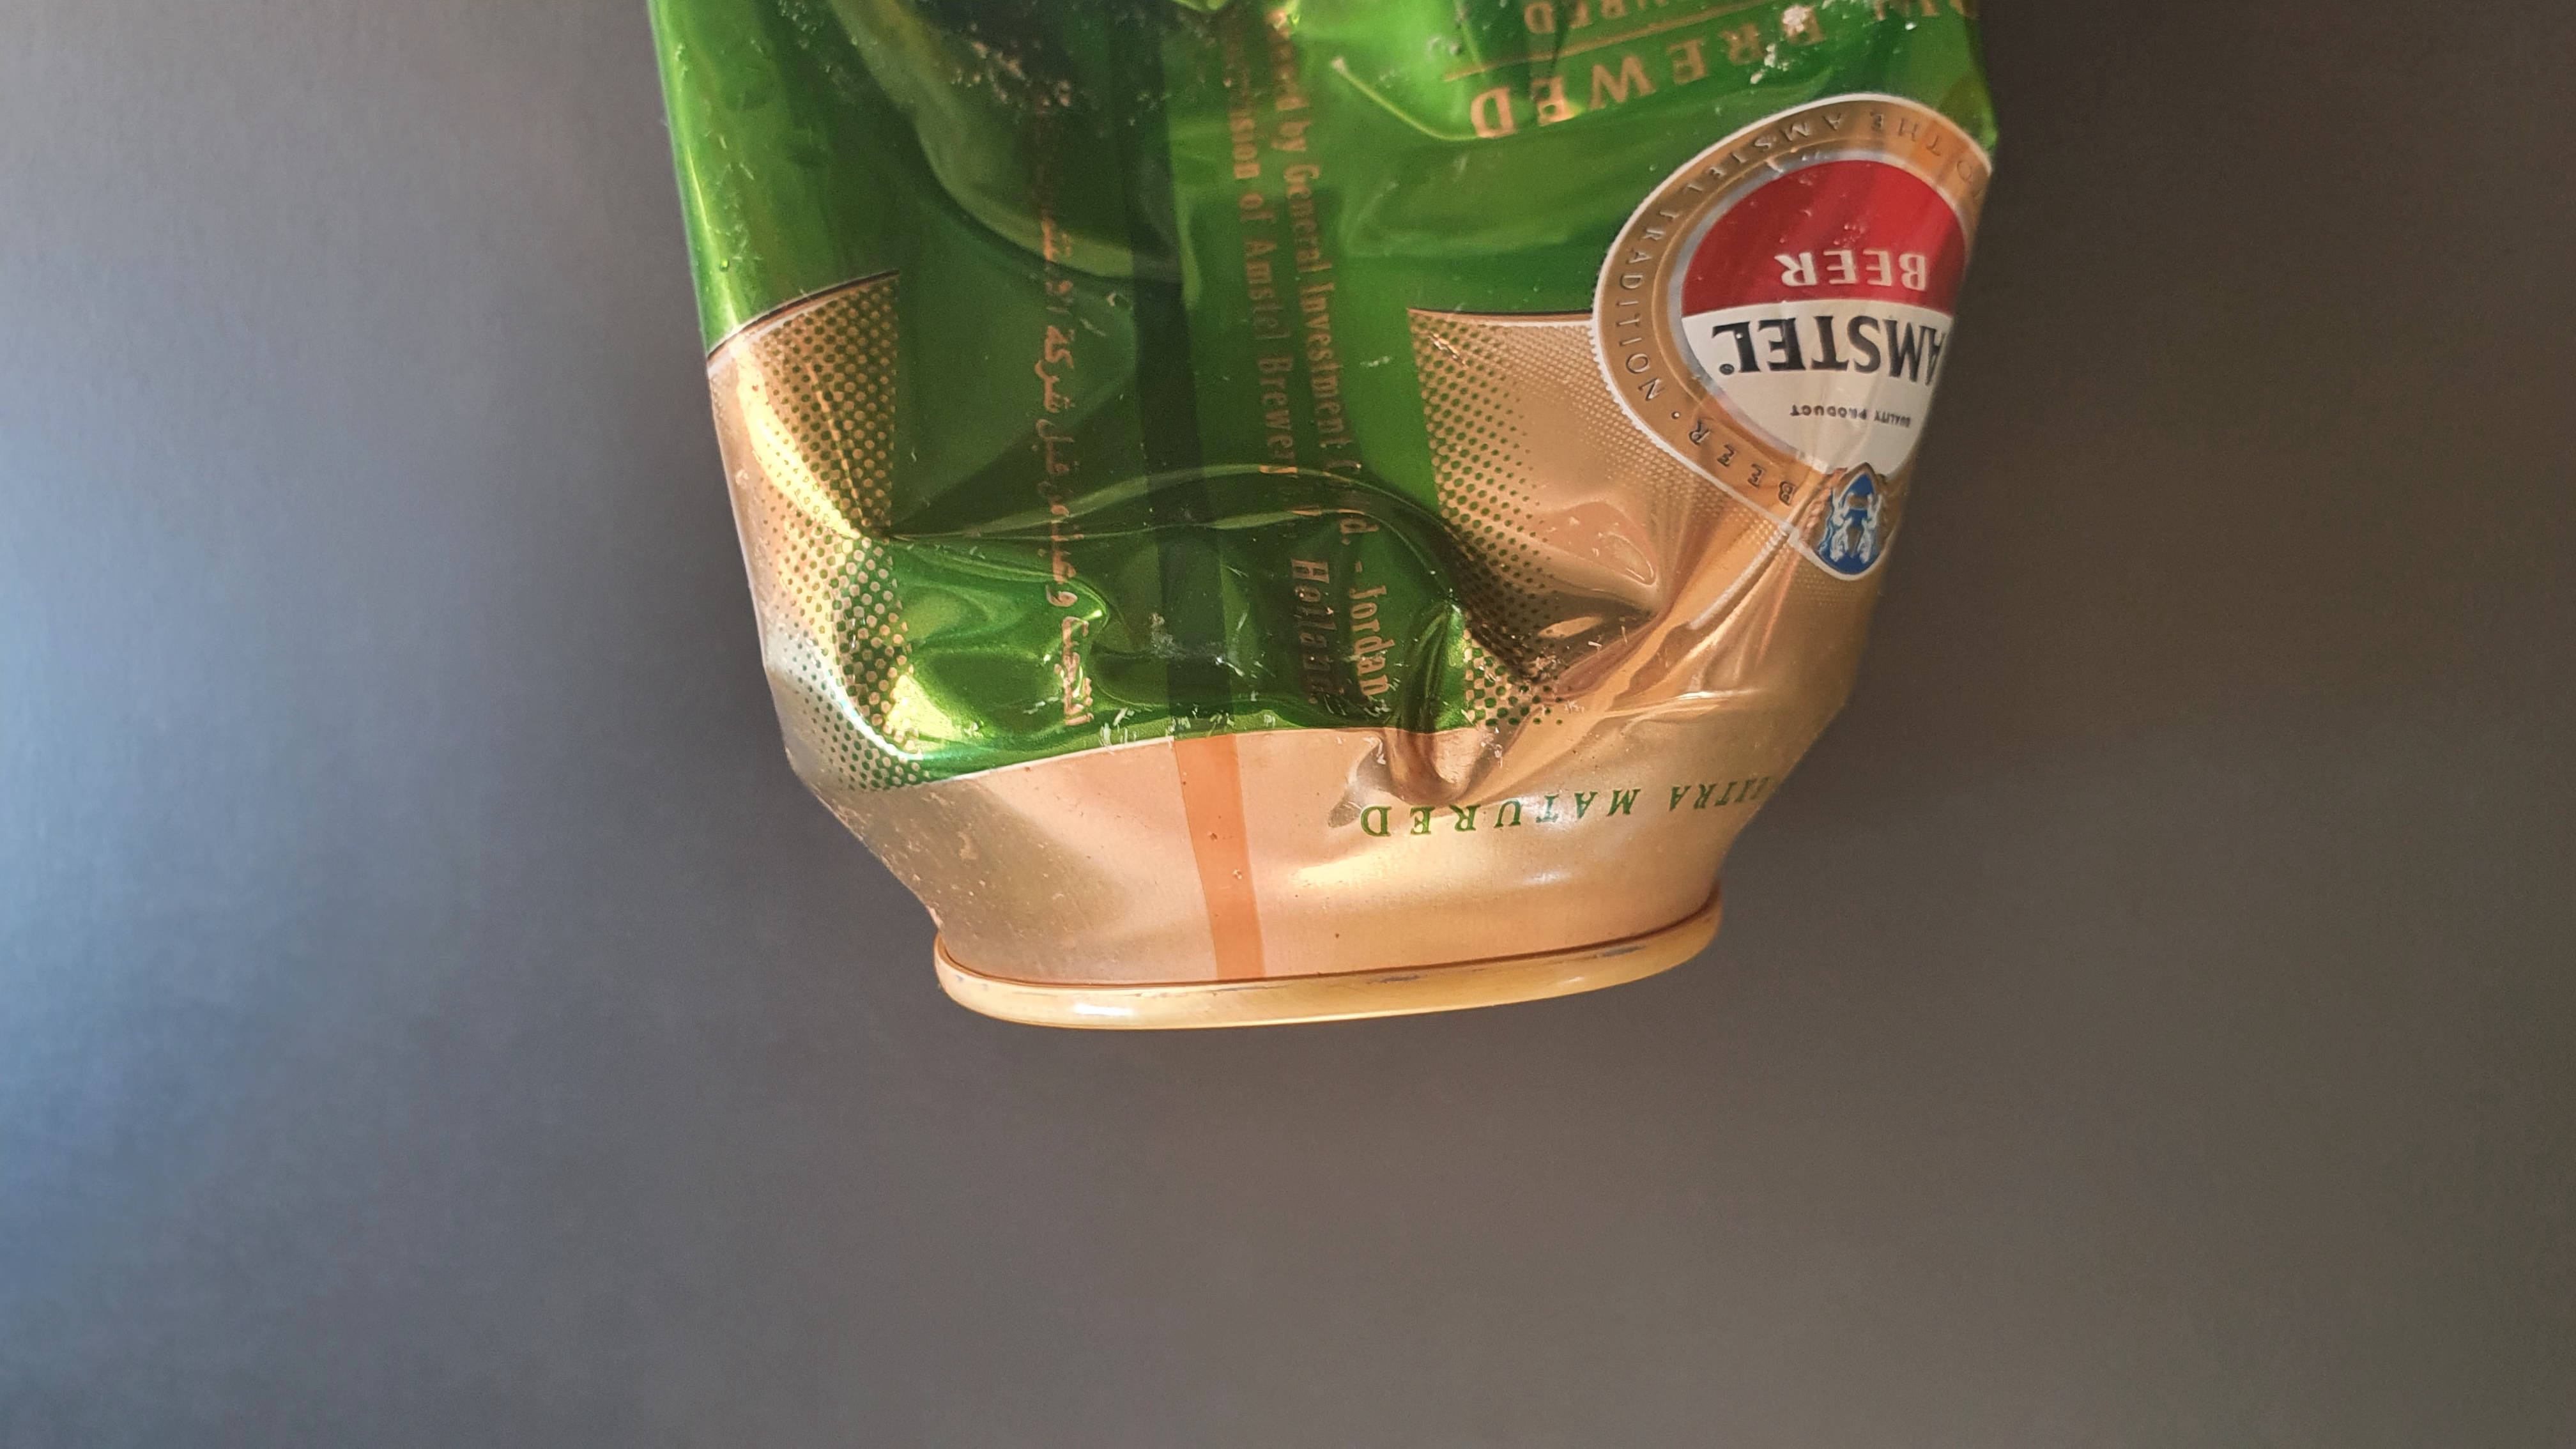metal: (617, 0, 2056, 1067)
